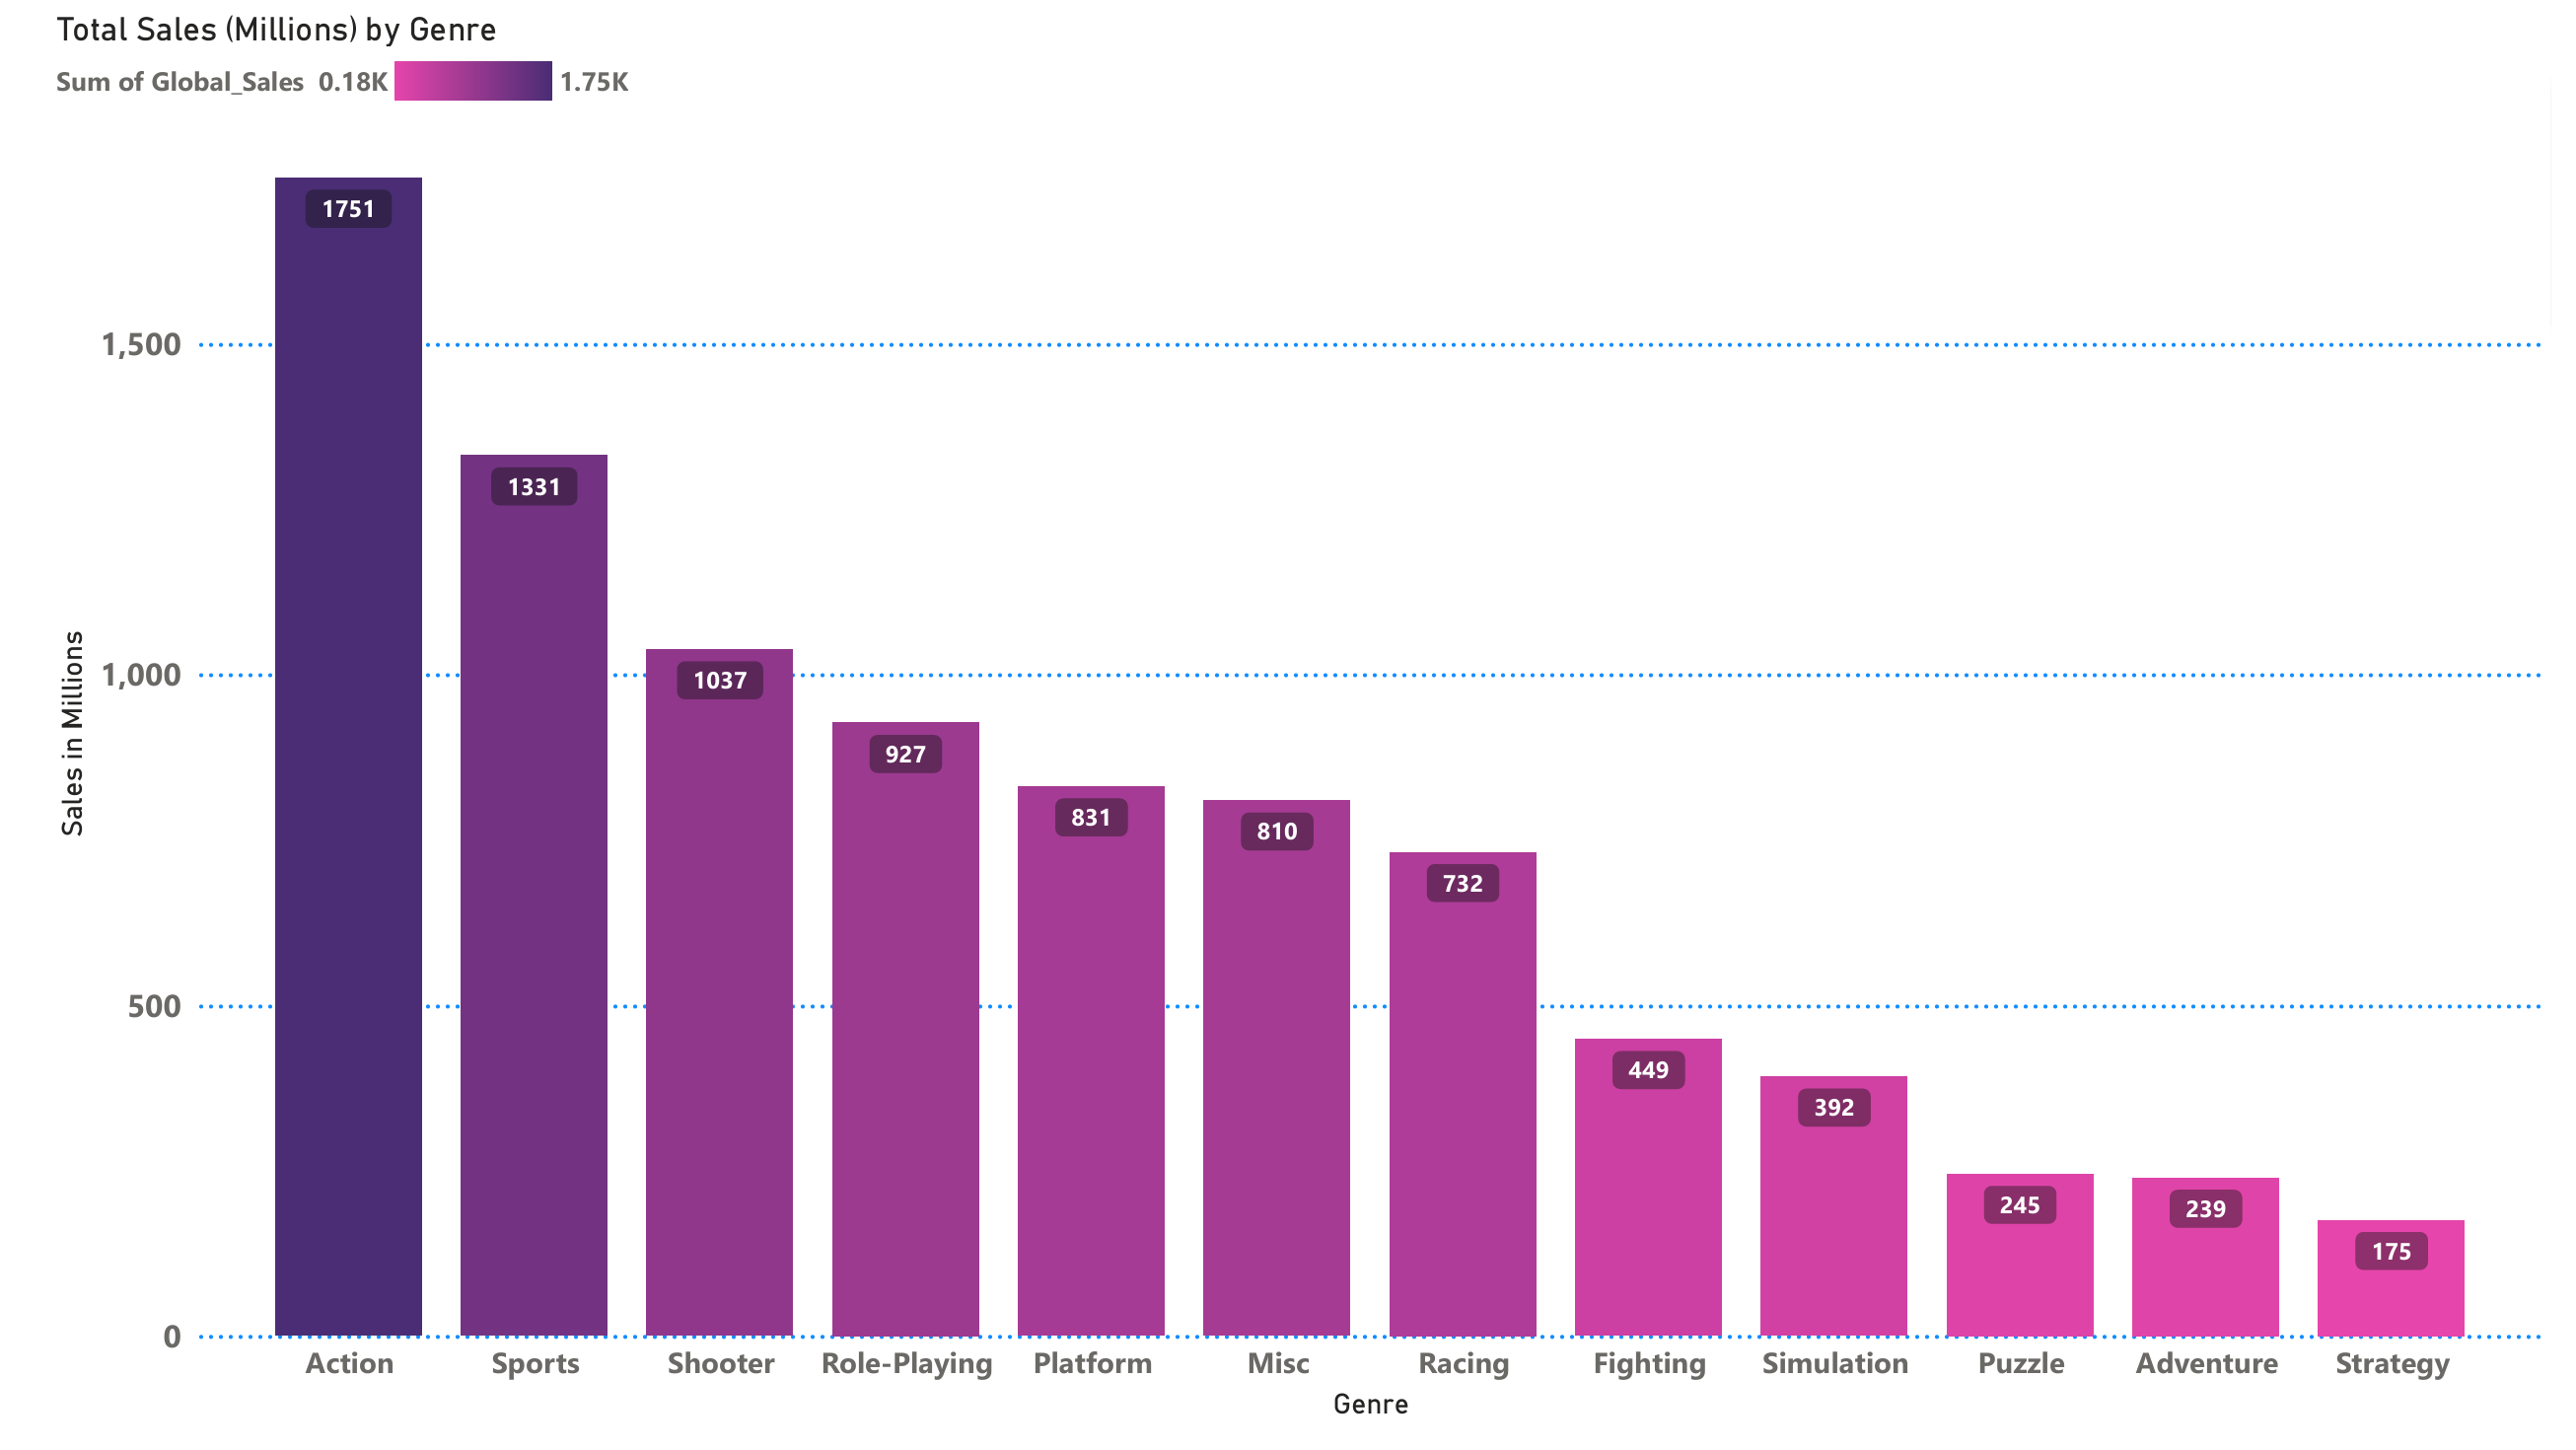

What the dashboard file says about the page in this screenshot:
{"tool":"powerbi","page":{"name":"Page 1","canvas":[1280,720],"ordinal":0},"visuals":[{"type":"clusteredColumnChart","title":"Total Sales (Millions) by Genre","fields":{"Category":["vgsales.Genre"],"Y":["Sum(vgsales.Global_Sales)"]},"box":[9.6,0,1270.7,720.4],"z":0}]}

Visuals, with their boxes in screenshot pixels (x1, y1, x2, y2), scaled from the page's 1280x720 canvas onto the 2576x1450 screenshot:
"Total Sales (Millions) by Genre" clusteredColumnChart: x1=20, y1=0, x2=2575, y2=1449
